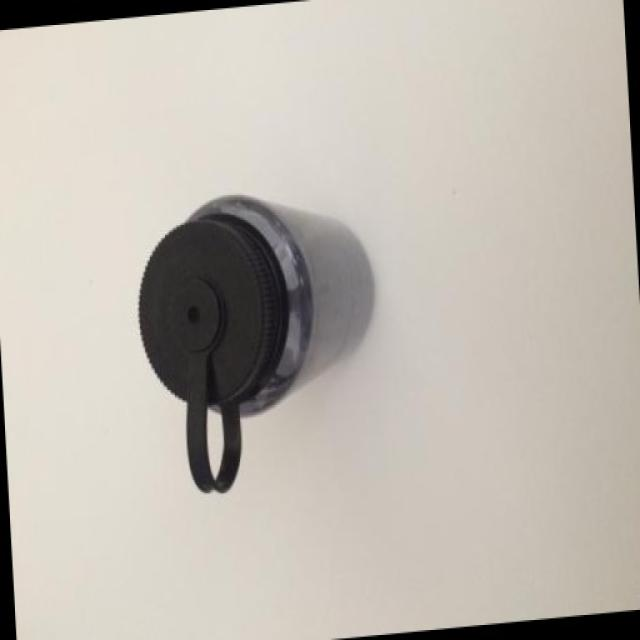plastico: (88, 173, 400, 529)
